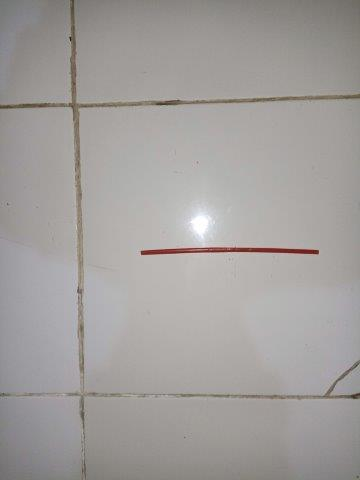sedotan: (141, 246, 320, 255)
